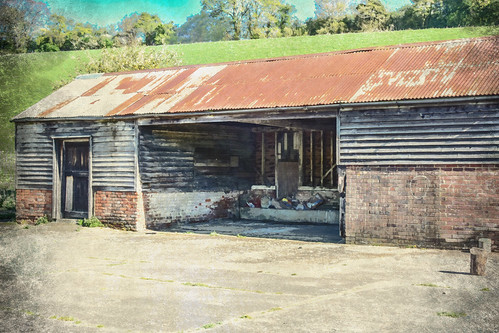building: (25, 42, 499, 224)
door: (56, 138, 96, 224)
street: (14, 238, 499, 333)
vegetation: (11, 1, 499, 52)
